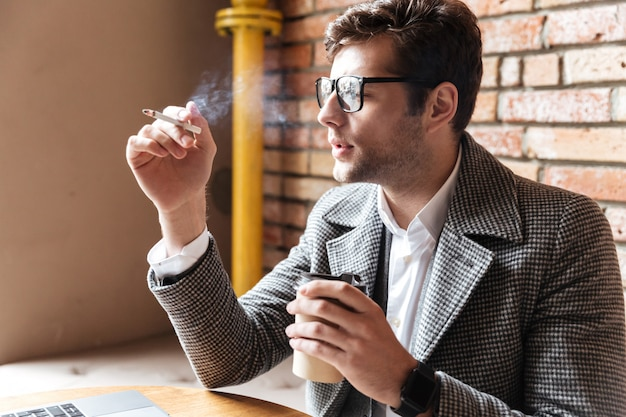cigarette: (141, 106, 201, 135)
